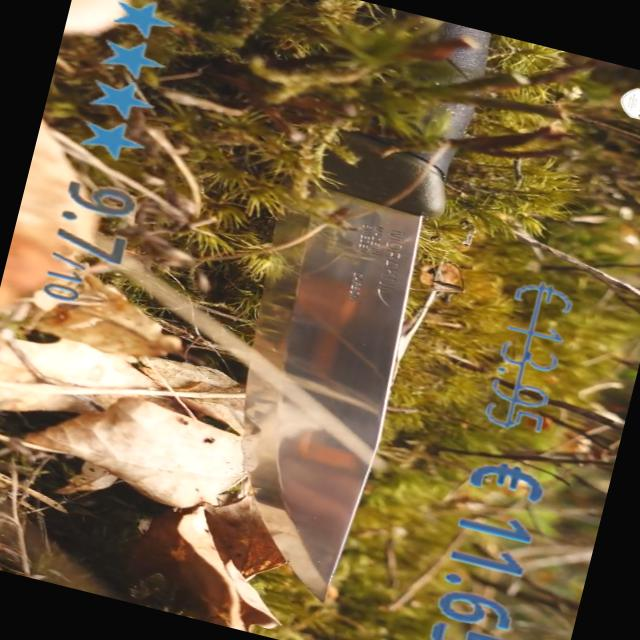knife: (198, 142, 458, 624)
